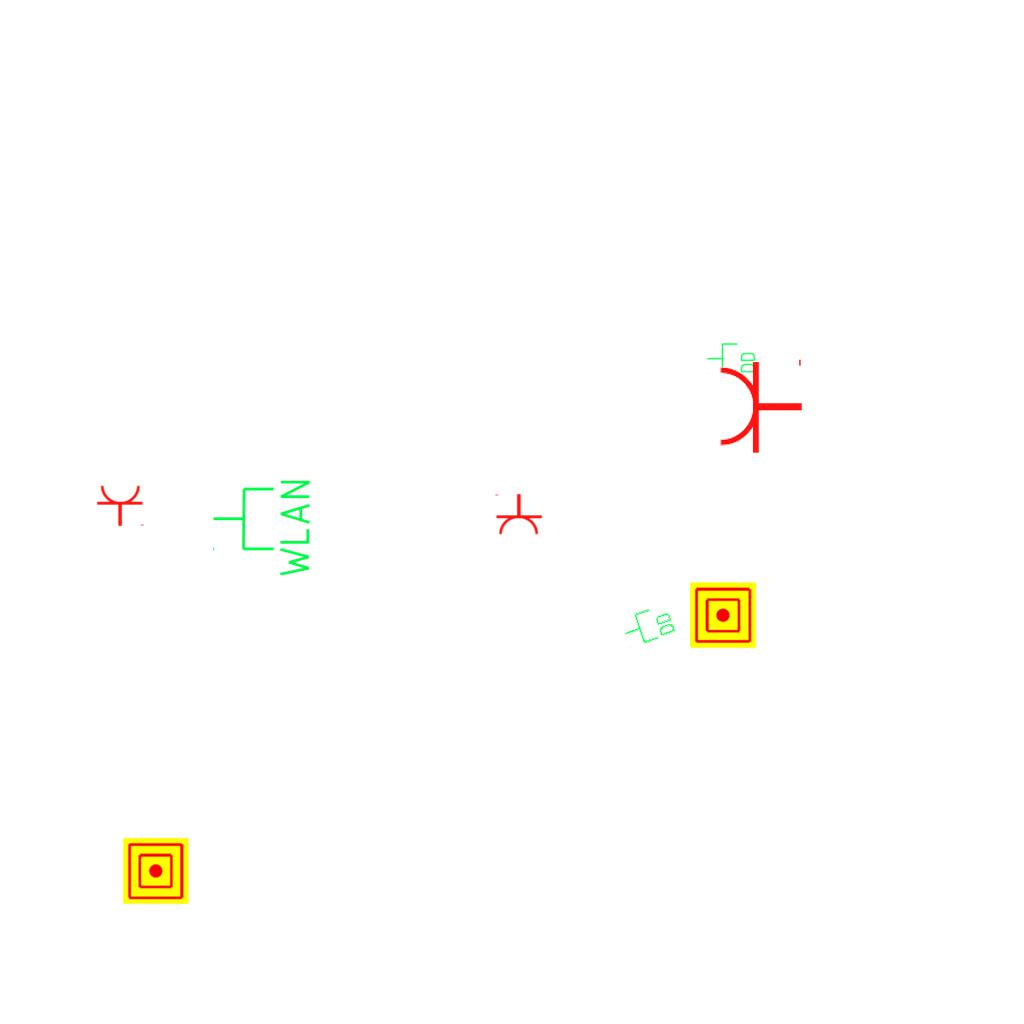Datenanschluss_zweifach: (618, 601, 679, 651), (706, 342, 757, 376)
NAM-Nichtautomatischer_Melder: (123, 838, 189, 904), (690, 582, 756, 648)
Schukosteckdose_einfach: (717, 355, 804, 455), (96, 484, 146, 527), (493, 493, 543, 536)
WLAN: (210, 476, 314, 581)
